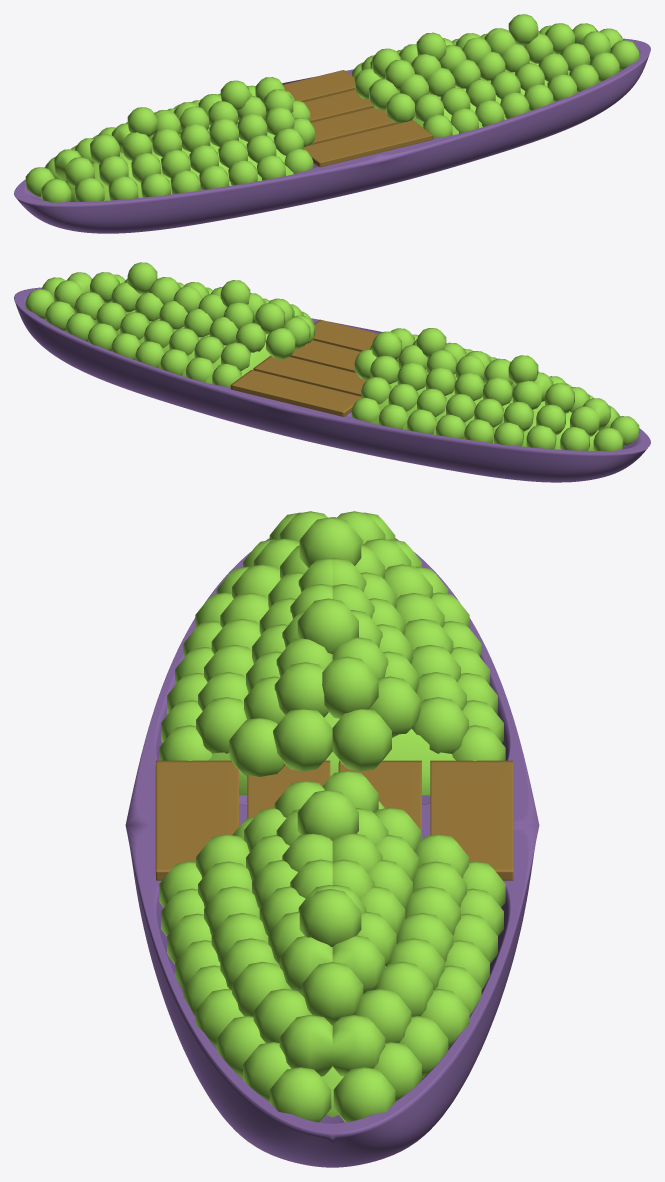
File: boat.fbx
3 renders of one model, top to bottom at view 1: azimuth 30°, elevation 25°; view 2: azimuth 150°, elevation 25°; view 3: azimuth 270°, elevation 25°, orthographic. The views are drawn at different scales.
Visible parts, largest first — view 1: boat-flat; view 2: boat-flat; view 3: boat-flat.
Boxes of the visible parts, x1,y1,x2,y2 form: boat-flat: [14, 14, 650, 233]; boat-flat: [14, 262, 650, 482]; boat-flat: [125, 511, 539, 1167].
Size of the model in its own units: 579 by 100 by 164.
